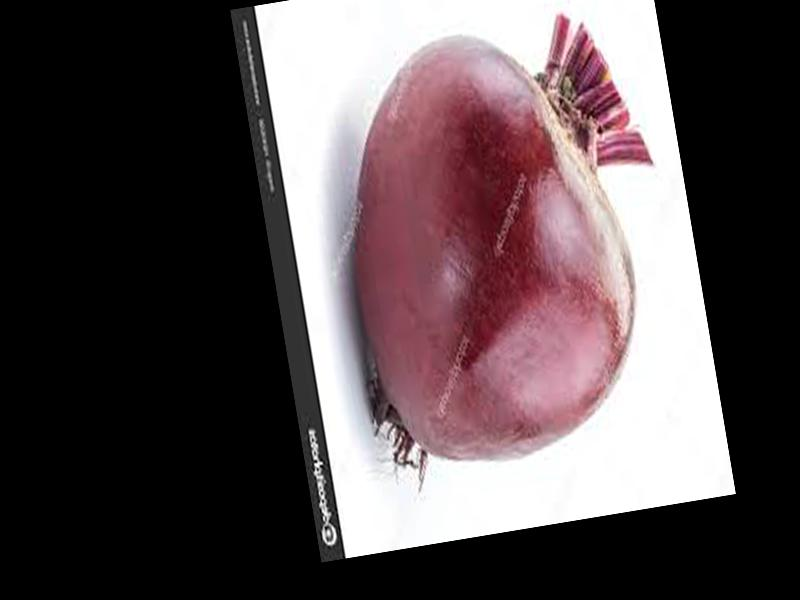Beet: (317, 7, 692, 478)
